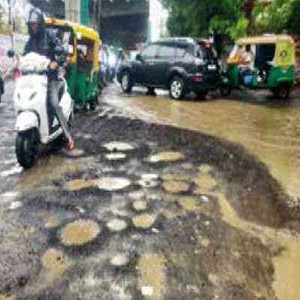pothole: (136, 250, 173, 300), (57, 216, 104, 247), (62, 175, 136, 193), (148, 150, 184, 163), (103, 140, 139, 152)
